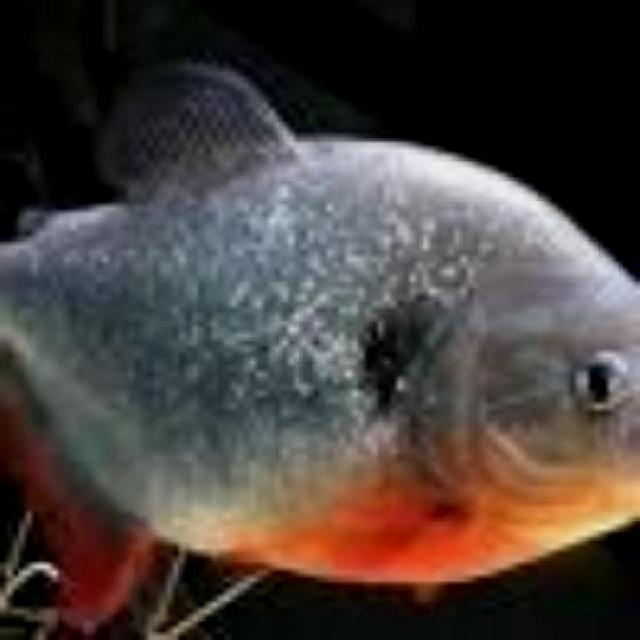ikan-pacu: (0, 70, 640, 592)
